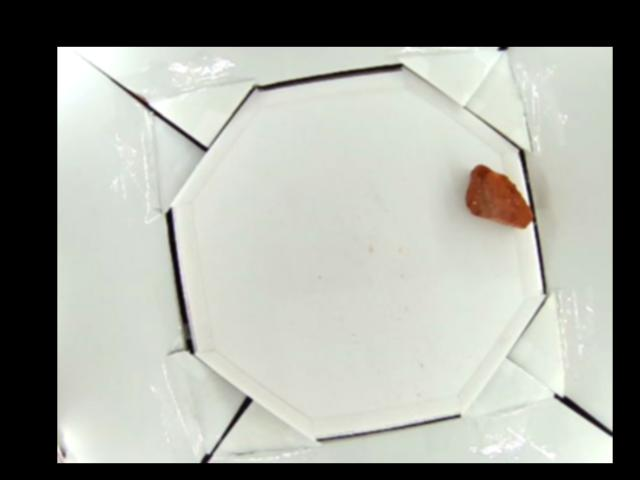Brisk: (464, 163, 537, 229)
